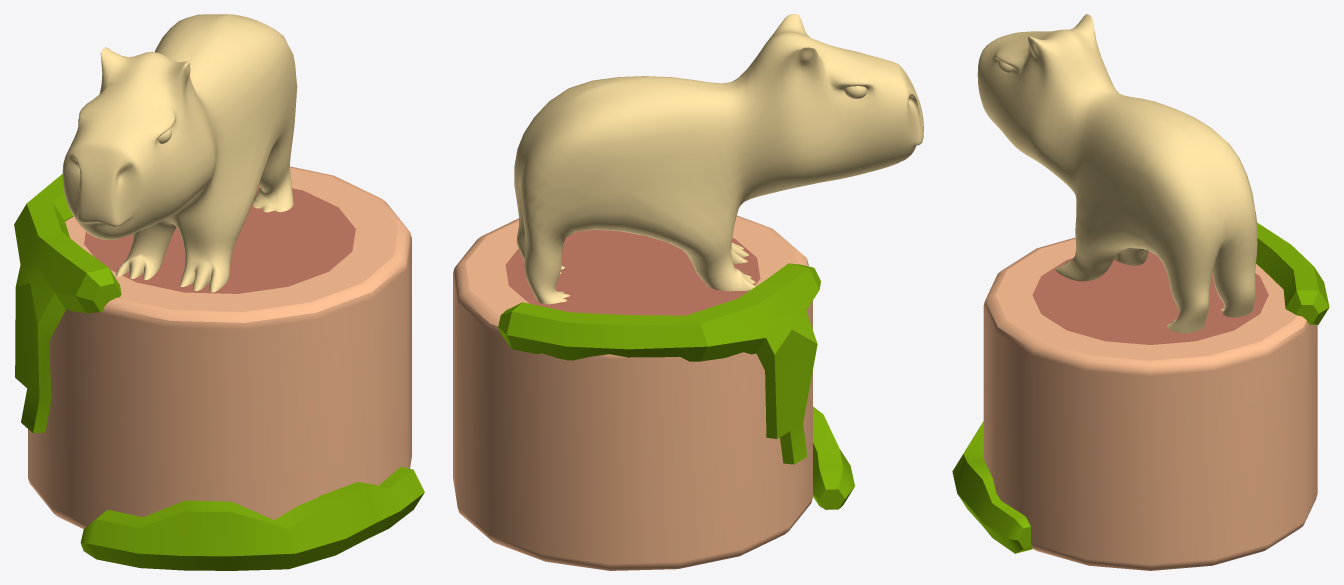
Rendered from hideandsmash_idolgrp.fbx.
3 renders of one model, left to right at view 1: azimuth 30°, elevation 25°; view 2: azimuth 150°, elevation 25°; view 3: azimuth 270°, elevation 25°, orthographic. The views are drawn at different scales.
Visible parts, largest first — view 1: platform_geo, capybaraIdol_geo, moss2, moss1; view 2: platform_geo, capybaraIdol_geo, moss1, moss2; view 3: platform_geo, capybaraIdol_geo, moss2, moss1.
Boxes of the visible parts, <box> form: platform_geo: <box>28,166,411,529</box>; capybaraIdol_geo: <box>62,14,297,292</box>; moss2: <box>80,466,424,570</box>; moss1: <box>14,174,121,433</box>; platform_geo: <box>453,215,812,570</box>; capybaraIdol_geo: <box>514,14,923,304</box>; moss1: <box>498,263,820,464</box>; moss2: <box>813,406,854,509</box>; platform_geo: <box>983,237,1317,570</box>; capybaraIdol_geo: <box>977,14,1257,333</box>; moss2: <box>952,421,1032,553</box>; moss1: <box>1256,222,1329,324</box>.
Bounding box in the file's own units: 13.48 × 16.22 × 13.
